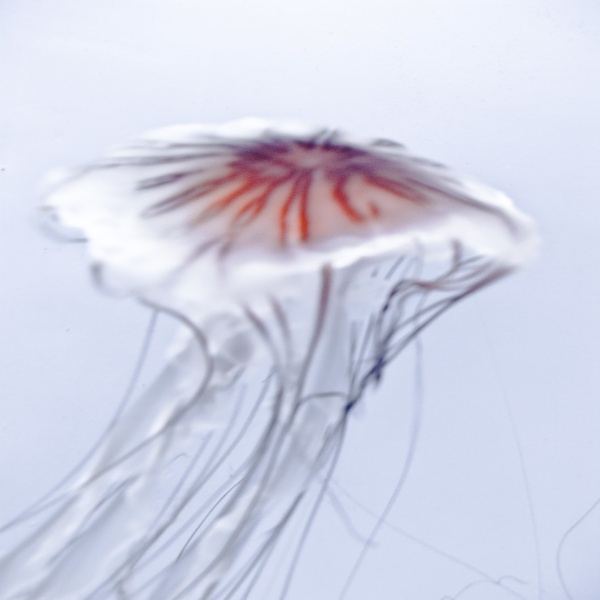Jellyfish: (20, 113, 580, 574)
